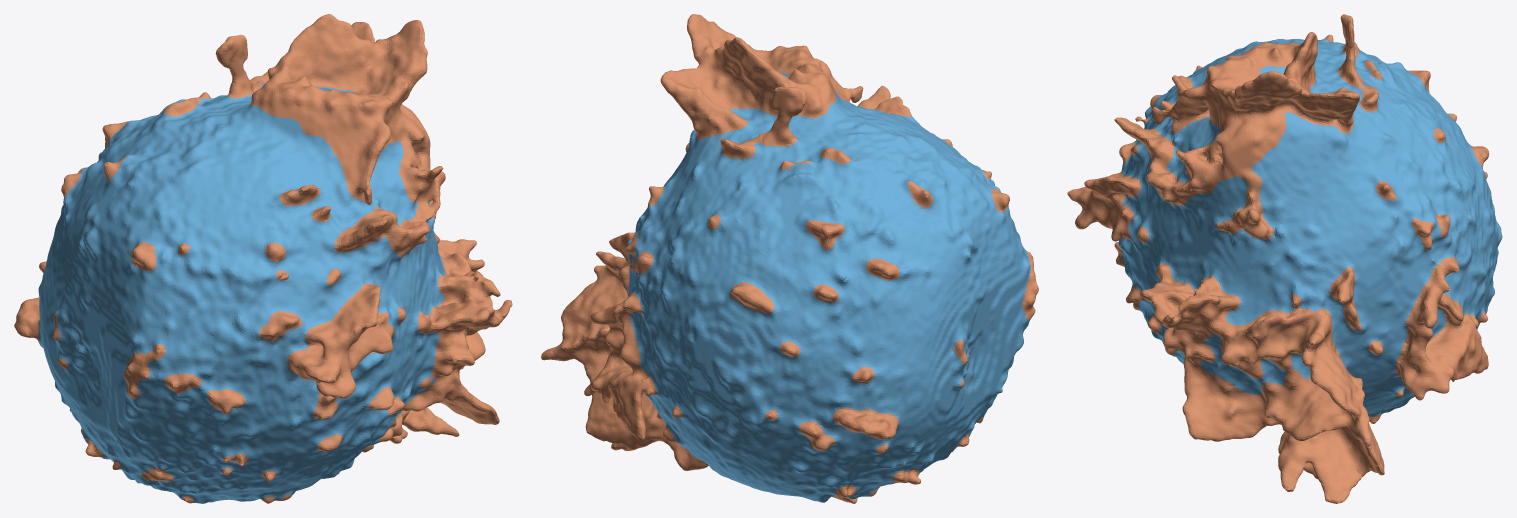
3 views of the same model, side by side, from view 1: azimuth 30°, elevation 25°; view 2: azimuth 150°, elevation 25°; view 3: azimuth 270°, elevation 25° (orthographic). The views are drawn at different scales.
Size of the model in its own units: 176 by 175 by 164.
